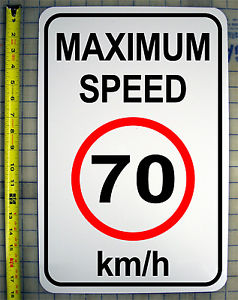Speed_limit_70km: (72, 117, 195, 239)
